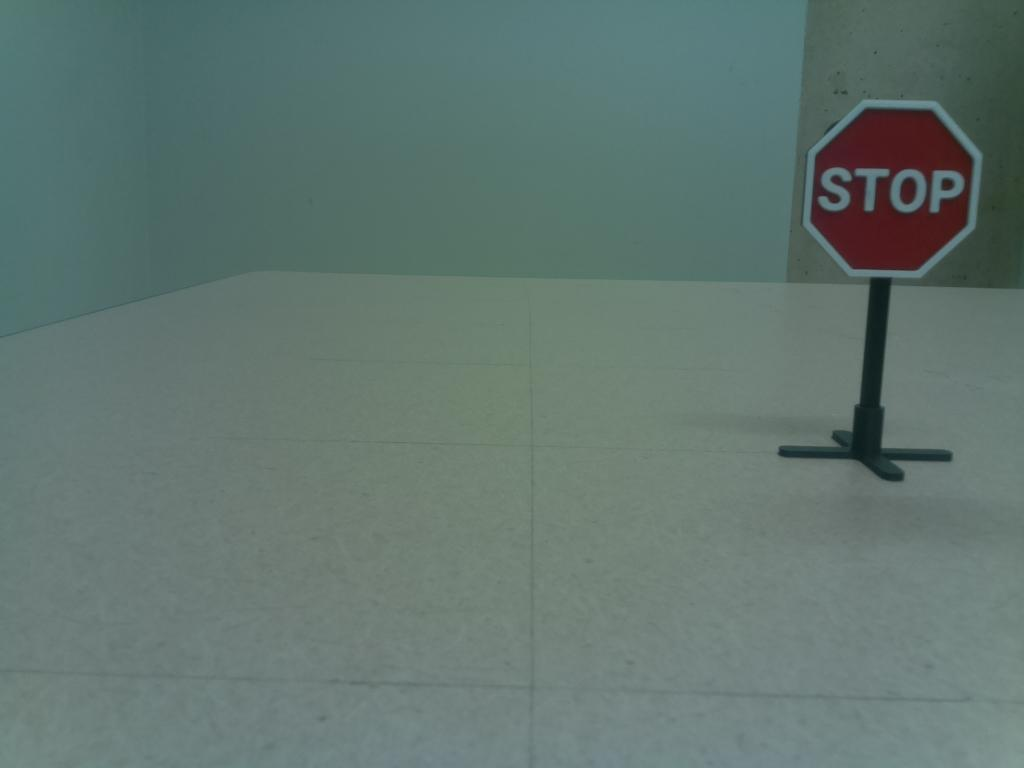sign_stop: (799, 99, 989, 277)
